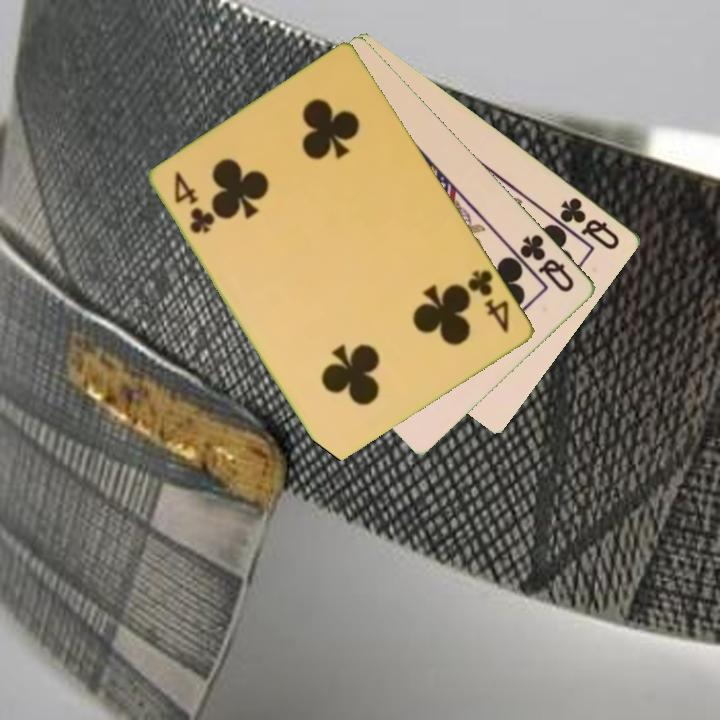4c: (464, 266, 513, 336), (171, 167, 218, 237)
Qc: (516, 230, 578, 296), (556, 193, 623, 253)
